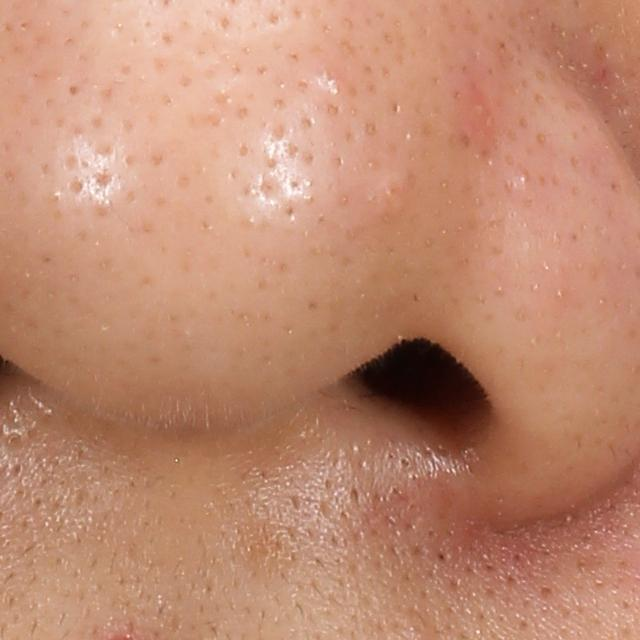comedo: (3, 431, 26, 451)
